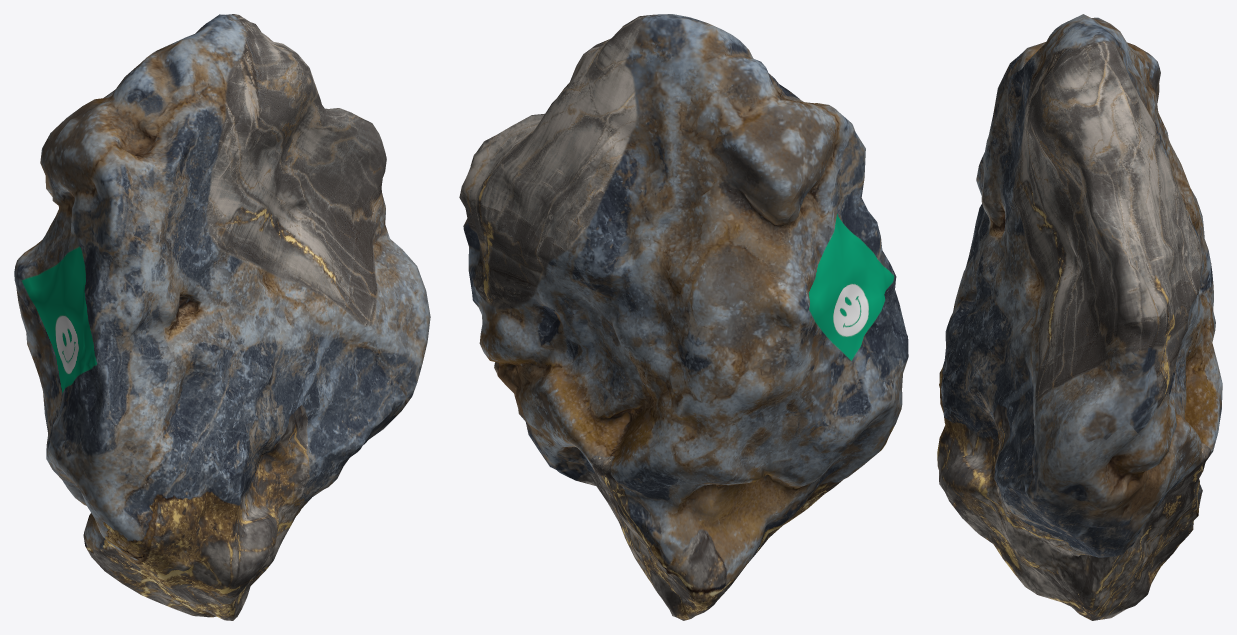
3 views of the same model, side by side, from view 1: azimuth 30°, elevation 25°; view 2: azimuth 150°, elevation 25°; view 3: azimuth 270°, elevation 25° (orthographic).
Parts seen in each view (by area): view 1: Model_LP2; view 2: Model_LP2; view 3: Model_LP2.
Boxes of the visible parts, x1=… form: Model_LP2: x1=14, y1=14, x2=430, y2=620; Model_LP2: x1=459, y1=14, x2=908, y2=620; Model_LP2: x1=937, y1=14, x2=1222, y2=620.
Bounding box in the file's own units: 1.21 × 1.75 × 0.7594.
Materials: 2 (1 with a texture image).
